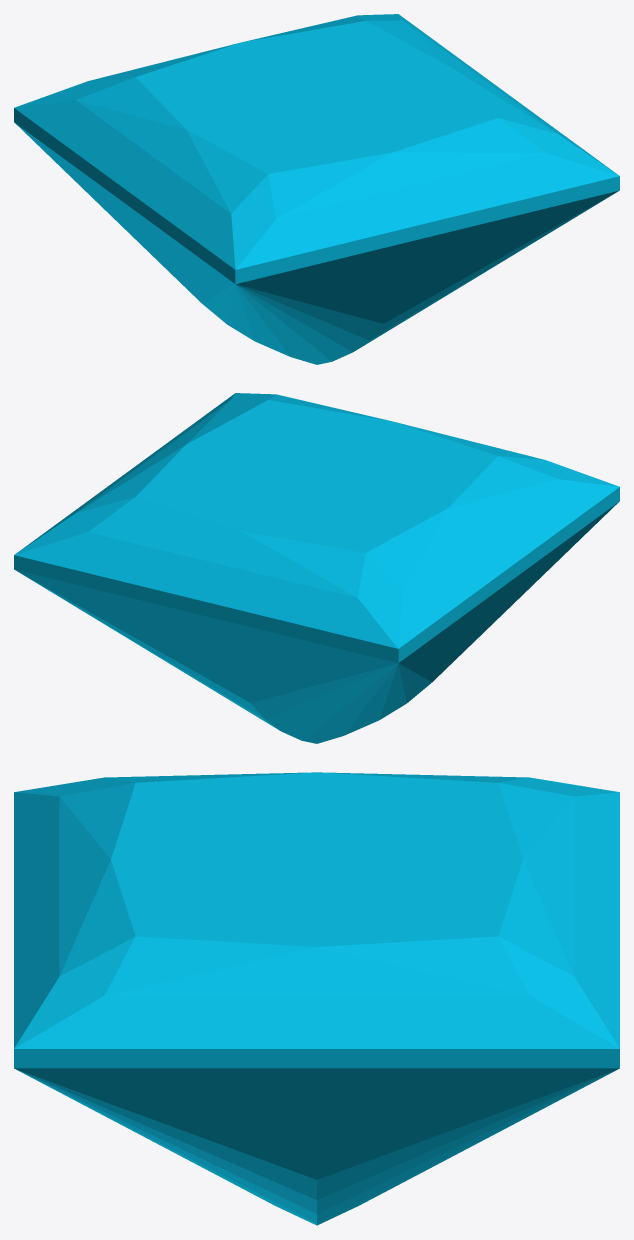
File: Head_No Halo_Princess_2.0ct_Diamond.glb
The picture shows the model from 3 angles, top to bottom: view 1: azimuth 30°, elevation 25°; view 2: azimuth 150°, elevation 25°; view 3: azimuth 270°, elevation 25°; orthographic projection. The views are drawn at different scales.
Size of the model in its own units: 0.00746 by 0.00496 by 0.00744.
